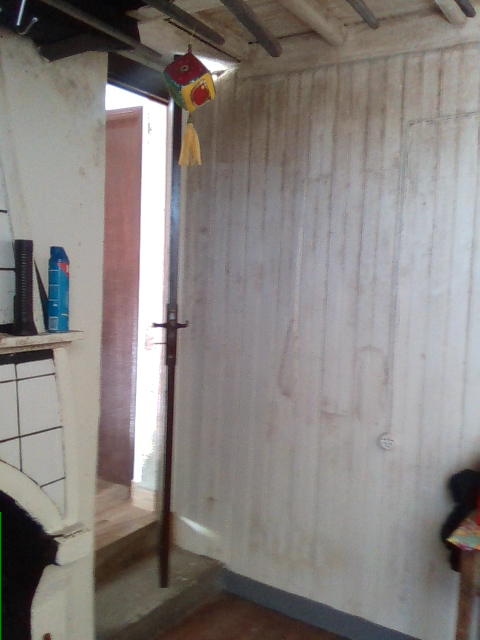semi: (107, 55, 186, 591)
